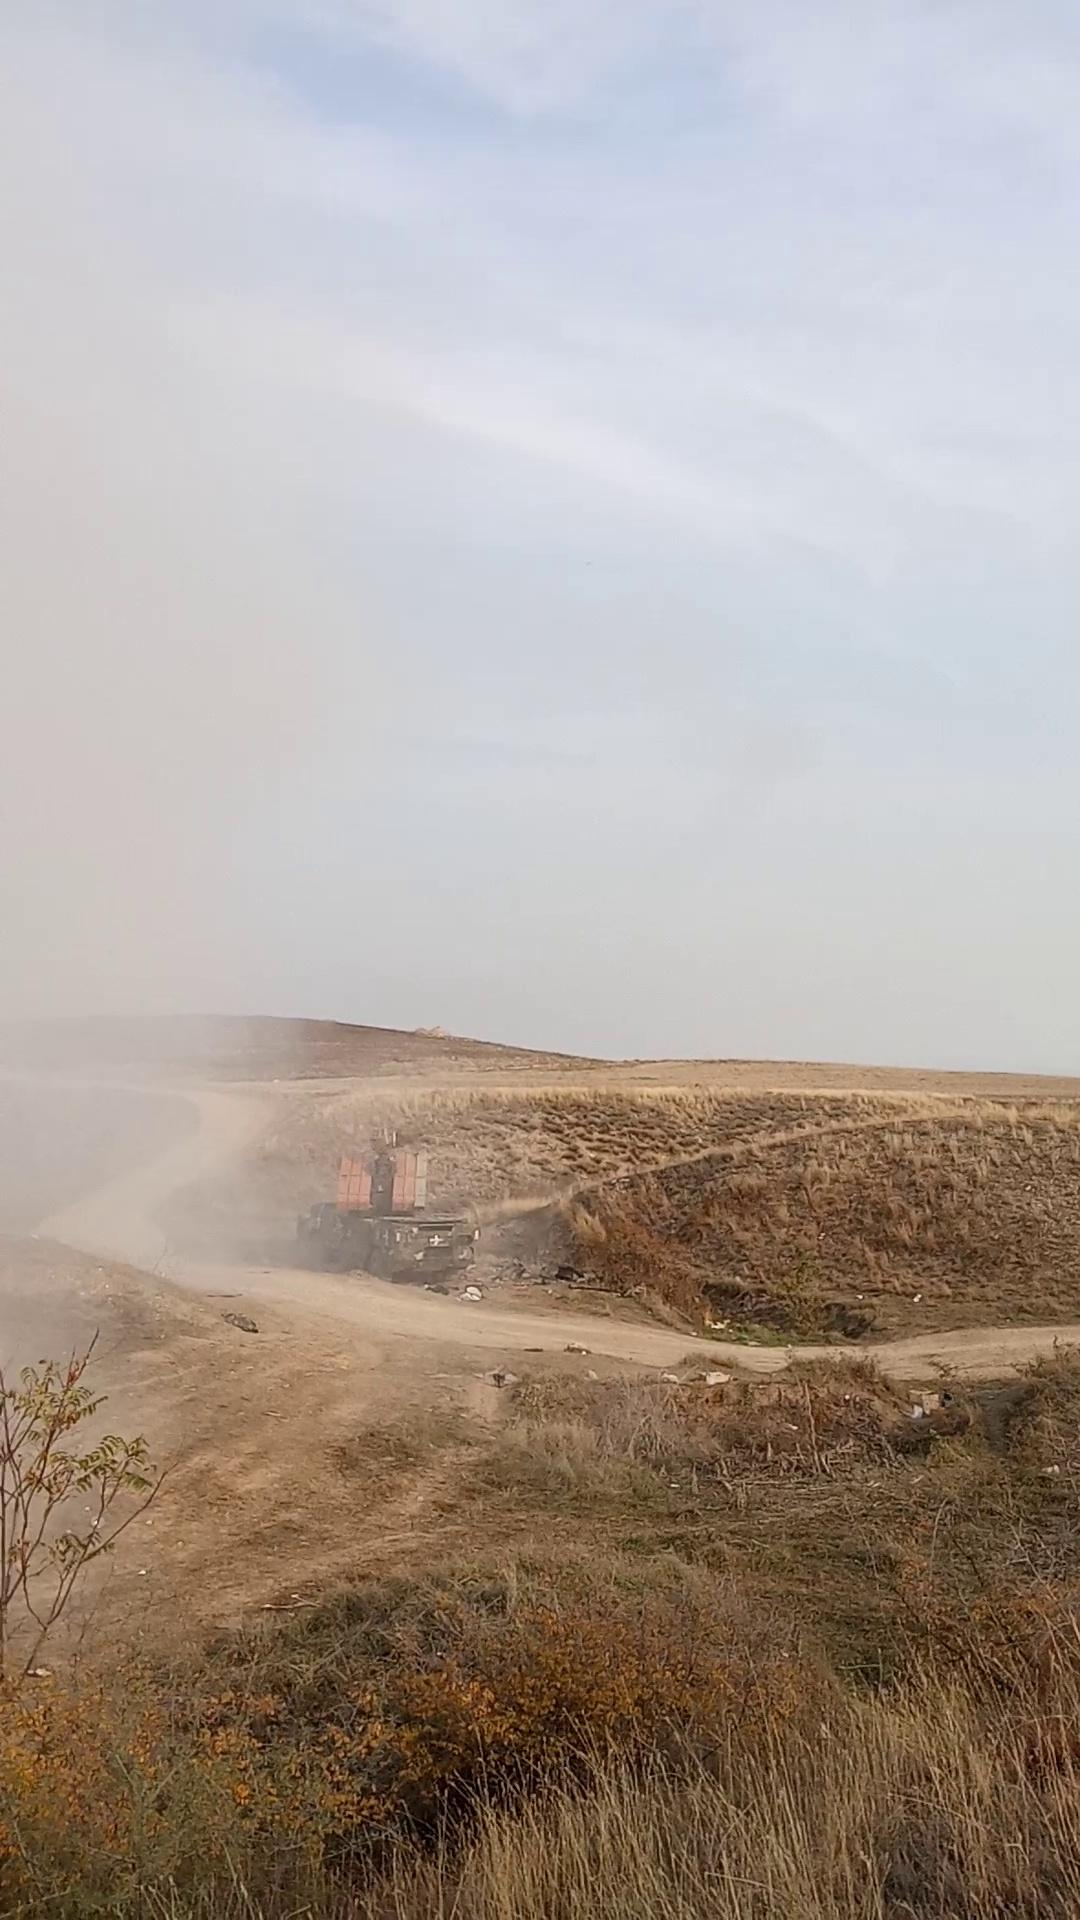MIL_SAM_TEL: (293, 1121, 483, 1295)
